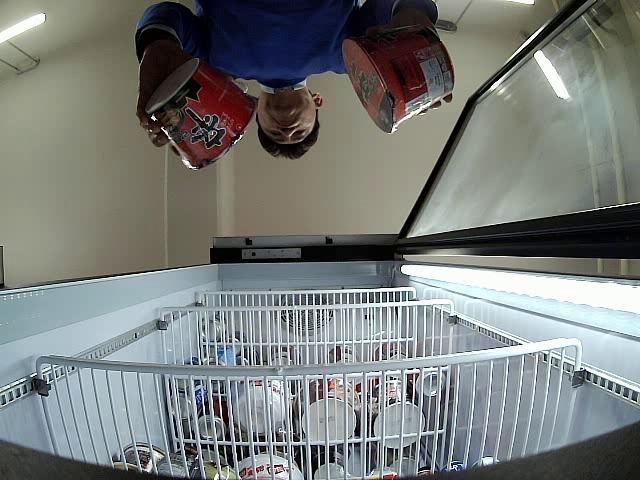01_ShinRamen_L: (142, 60, 260, 171), (342, 26, 454, 134)
